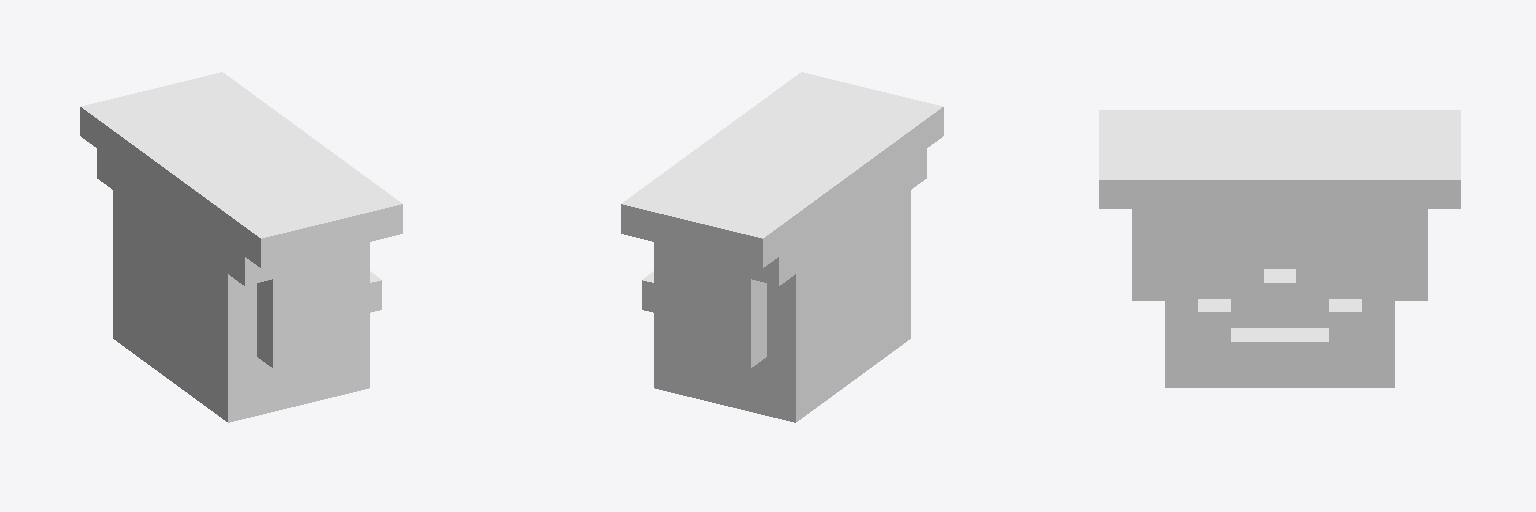
Rendered from Minero-1.obj.
3 renders of one model, left to right at view 1: azimuth 30°, elevation 25°; view 2: azimuth 150°, elevation 25°; view 3: azimuth 270°, elevation 25°, orthographic.
Parts seen in each view (by area): view 1: object 1; view 2: object 1; view 3: object 1.
Part boxes in pixels (x1,y1,x2,y2): object 1: (80, 72, 402, 422); object 1: (621, 72, 943, 422); object 1: (1099, 110, 1460, 387).
Size of the model in its own units: 0.6 by 0.7 by 1.1.